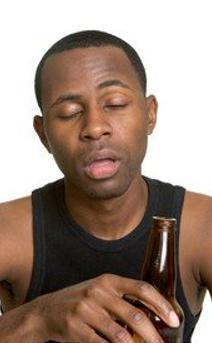Drunk: (39, 53, 149, 198)
